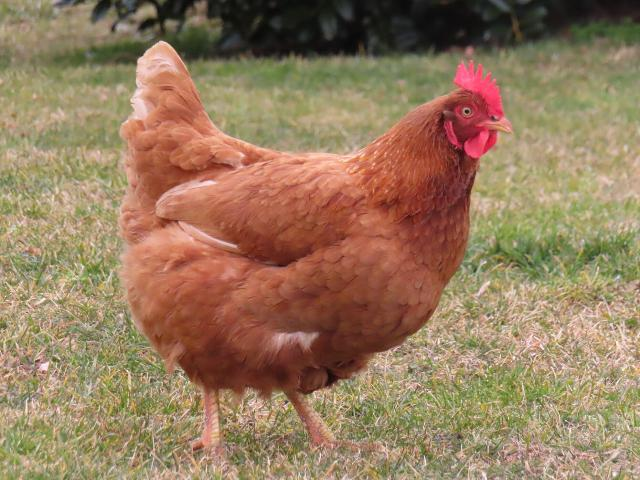Chicken: (122, 41, 514, 455)
